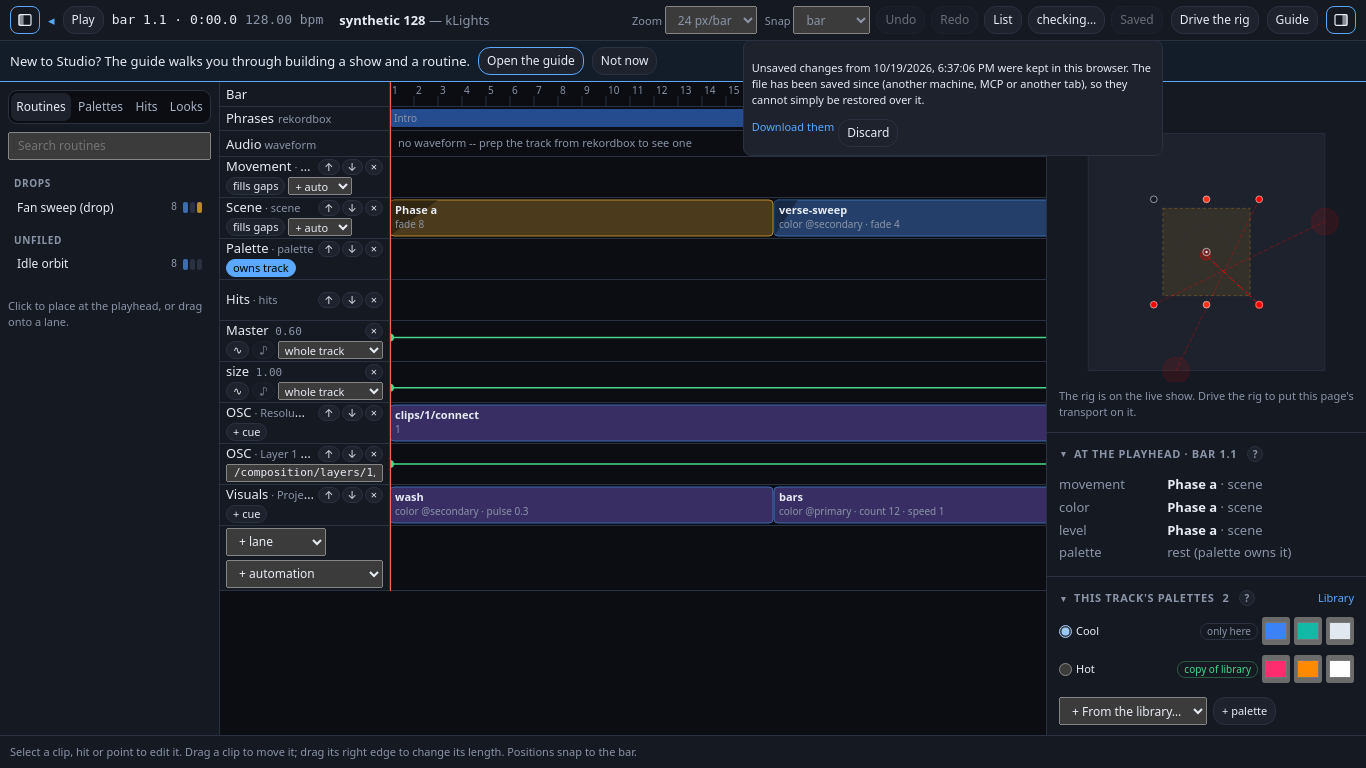
Test: designer › will not restore a kept copy over a file saved since, but lets it be downloaded
Expected: the text "has been saved since" is shown, x1=752 y1=60 x2=1151 y2=107
Click the button "Discard": (868, 133) x1=838 y1=119 x2=898 y2=147
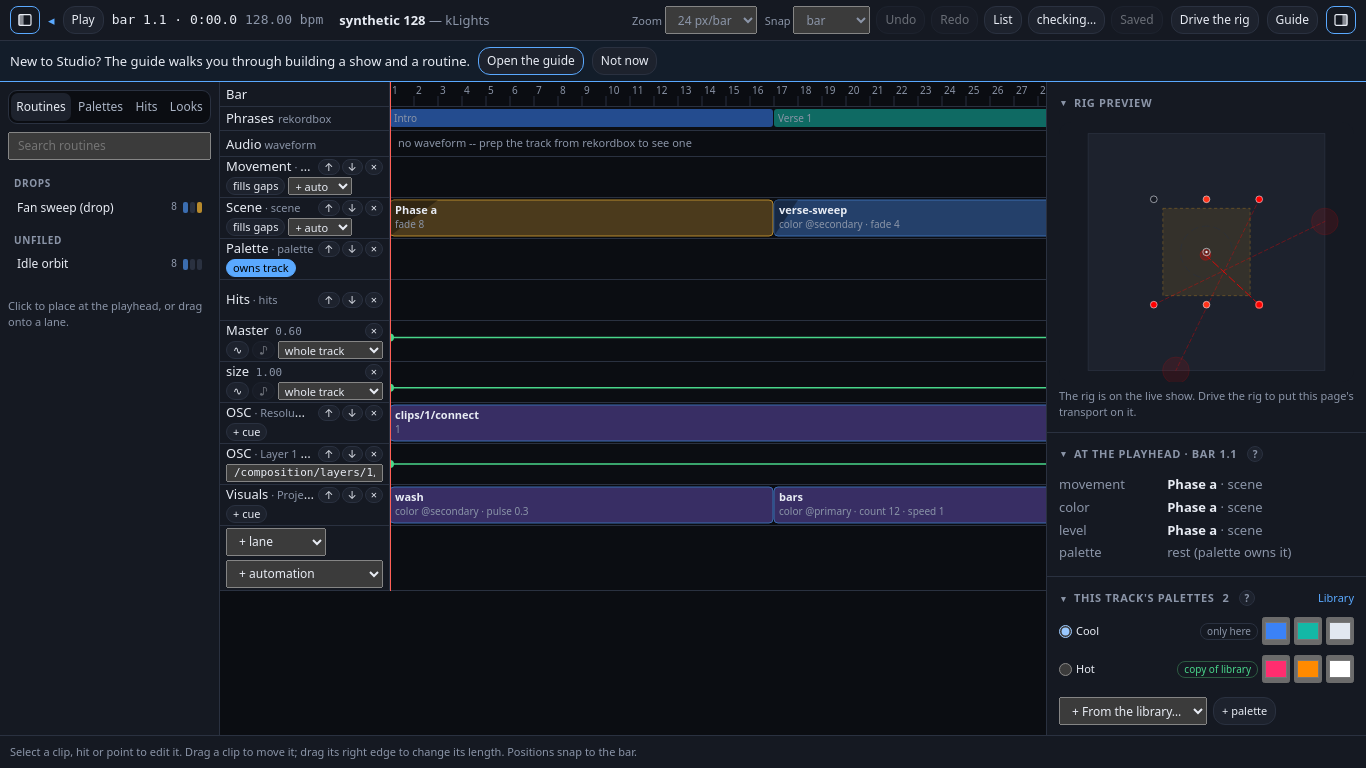
Result: the dialog is gone
